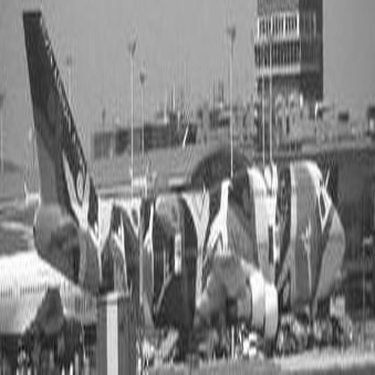airplane: (4, 3, 368, 371)
